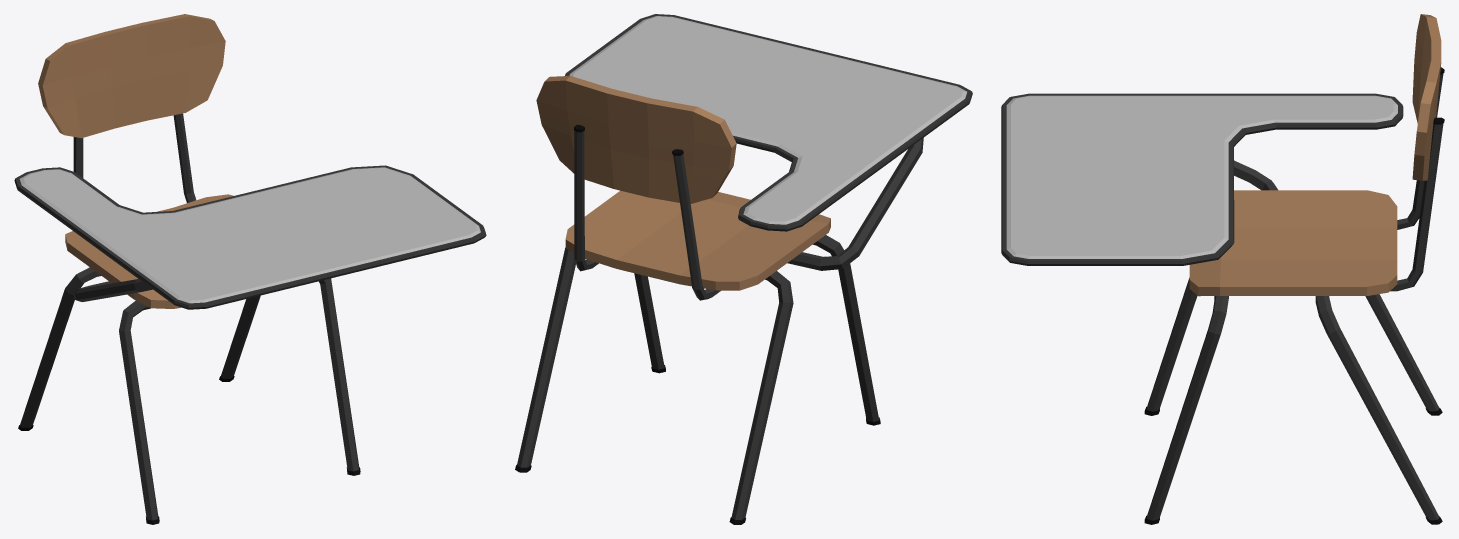
The model's file is Int_DeskChair01_2.fbx.
3 renders of one model, left to right at view 1: azimuth 30°, elevation 25°; view 2: azimuth 150°, elevation 25°; view 3: azimuth 270°, elevation 25°, orthographic. The views are drawn at different scales.
Visible parts, largest first — view 1: Int_DeskChair01_2; view 2: Int_DeskChair01_2; view 3: Int_DeskChair01_2.
Boxes of the visible parts, left/top/right/bottom form: Int_DeskChair01_2: left=14, top=14, right=486, bottom=524; Int_DeskChair01_2: left=515, top=14, right=972, bottom=524; Int_DeskChair01_2: left=1001, top=14, right=1444, bottom=524.
Size of what is drawn, in the model's own units: 95.63 by 107 by 111.
